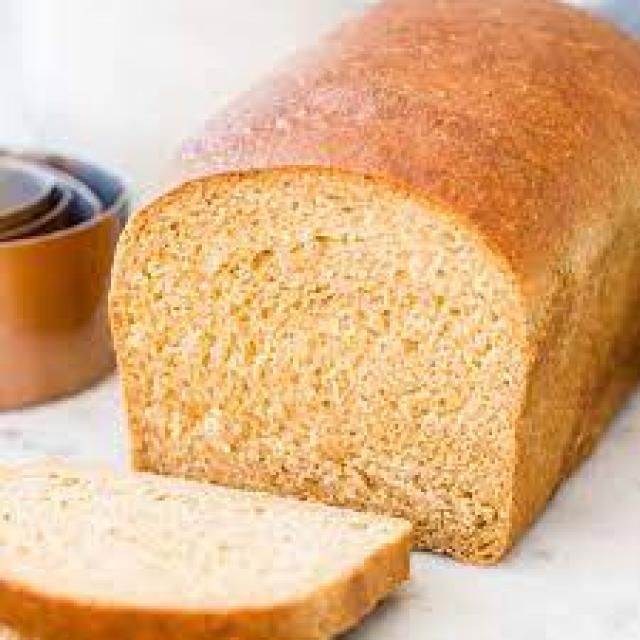bread: (111, 0, 640, 567)
